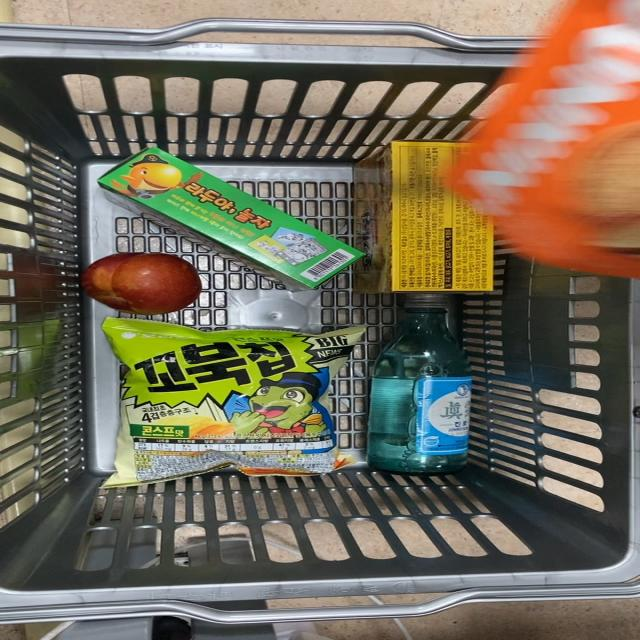cheesebagel: (457, 0, 640, 268)
ggobukchip: (102, 312, 356, 474)
goraebob: (99, 139, 368, 285)
jinro: (360, 292, 487, 478)
minicrab: (354, 124, 492, 307)
plum: (72, 251, 214, 312)
